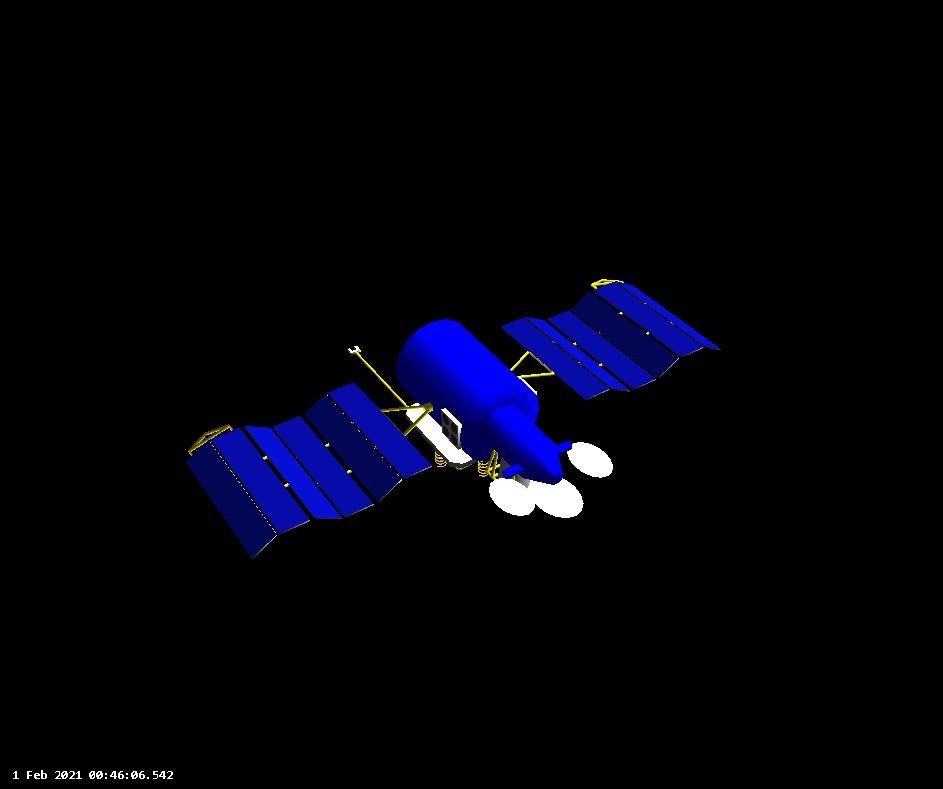antenna: (341, 339, 416, 415), (528, 471, 585, 519), (485, 473, 538, 520), (566, 439, 617, 480), (434, 435, 448, 472), (471, 457, 492, 478)
body: (395, 314, 574, 487)
solar: (178, 377, 436, 561), (501, 275, 726, 403)
